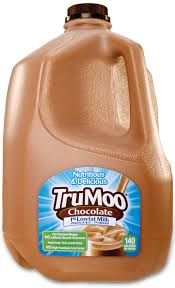milk: (7, 1, 170, 281)
